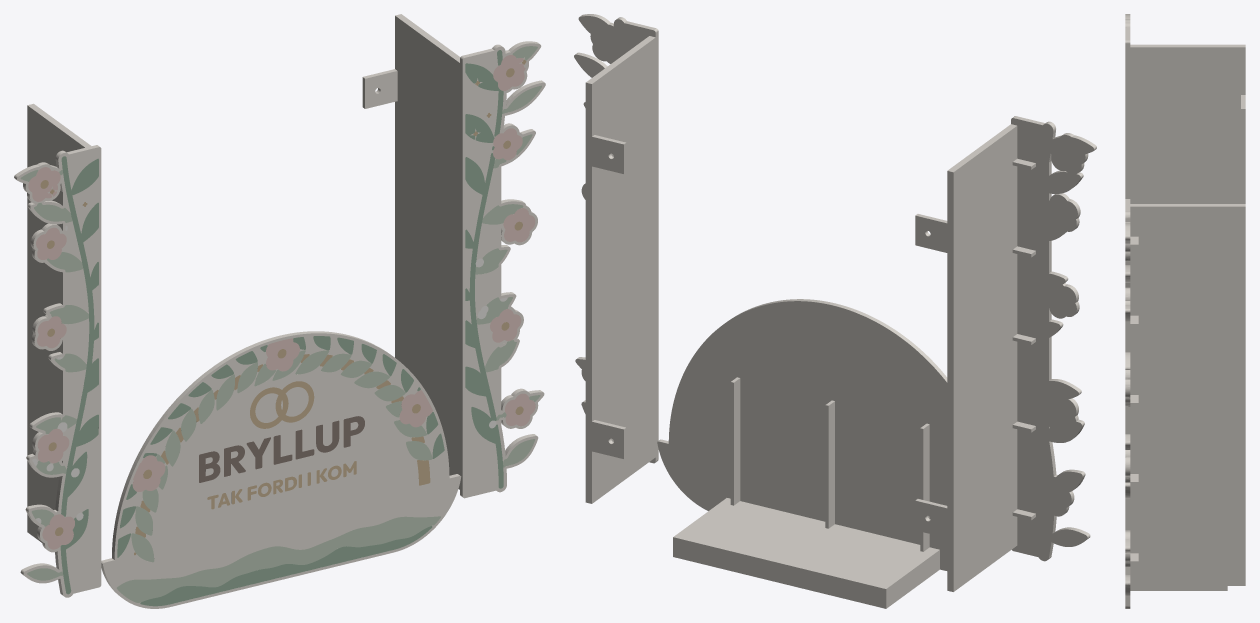
The model's file is parts.glb.
The picture shows the model from 3 angles, left to right: view 1: azimuth 30°, elevation 25°; view 2: azimuth 150°, elevation 25°; view 3: azimuth 270°, elevation 25°; orthographic projection. The views are drawn at different scales.
Visible parts, largest first — view 1: topper__base, wing_right__base, wing_left__base, topper__sage, topper__leaf, wing_right__leaf, wing_left__leaf, topper__gold, wing_left__blush, wing_right__blush, wing_right__sage, wing_left__sage (+2 smaller); view 2: topper__base, wing_left__base, wing_right__base; view 3: wing_right__base, wing_left__base, topper__base.
Part boxes in pixels (left/top/right/bottom): topper__base: left=101, top=331, right=461, bottom=608; wing_right__base: left=362, top=14, right=545, bottom=498; wing_left__base: left=14, top=103, right=101, bottom=597; topper__sage: left=116, top=350, right=440, bottom=603; topper__leaf: left=117, top=336, right=444, bottom=606; wing_right__leaf: left=465, top=50, right=503, bottom=488; wing_left__leaf: left=60, top=156, right=98, bottom=594; topper__gold: left=134, top=349, right=430, bottom=555; wing_left__blush: left=28, top=167, right=74, bottom=549; wing_right__blush: left=490, top=55, right=535, bottom=426; wing_right__sage: left=475, top=46, right=541, bottom=467; wing_left__sage: left=20, top=170, right=88, bottom=580; topper__base: left=657, top=299, right=947, bottom=608; wing_left__base: left=915, top=116, right=1096, bottom=591; wing_right__base: left=574, top=14, right=658, bottom=503; wing_right__base: left=1125, top=199, right=1245, bottom=608; wing_left__base: left=1125, top=14, right=1245, bottom=203; topper__base: left=1130, top=586, right=1227, bottom=590.
Size of the model in its own units: 329 by 286 by 73.01.
